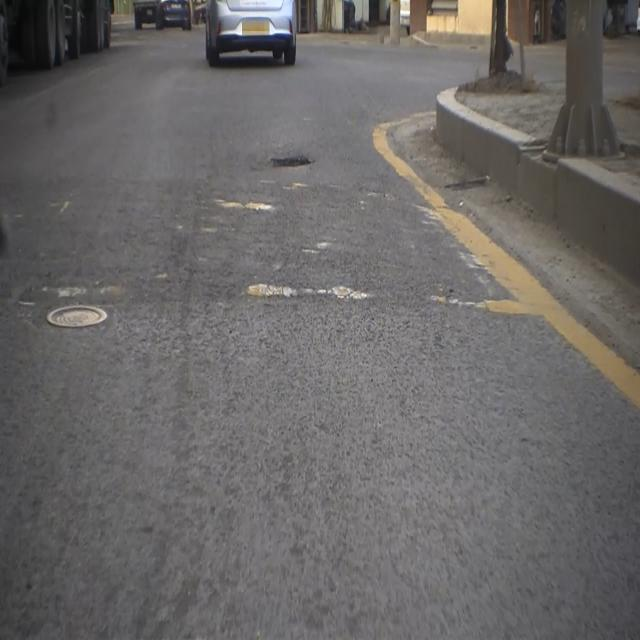Pothole: (264, 139, 318, 177)
